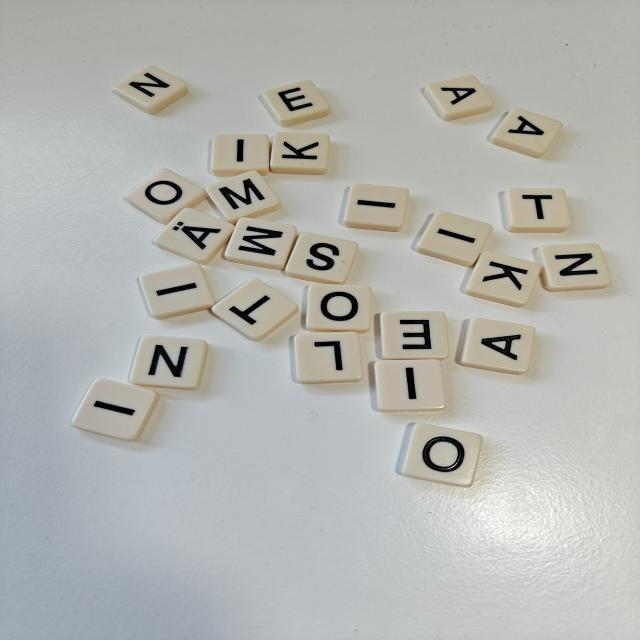a: (460, 318, 535, 374), (490, 109, 562, 158), (425, 75, 494, 121)
a_dot: (154, 208, 234, 264)
e: (380, 311, 449, 360), (262, 80, 330, 126)
i: (72, 379, 159, 440), (416, 211, 492, 267), (140, 263, 215, 319), (374, 360, 447, 412), (344, 184, 409, 231), (212, 134, 269, 176)
k: (464, 252, 541, 307), (270, 132, 330, 175)
l: (294, 332, 363, 384)
m: (205, 171, 281, 224), (225, 218, 297, 269)
n: (130, 336, 208, 390), (115, 65, 188, 114), (537, 243, 611, 291)
o: (397, 424, 482, 487), (126, 169, 206, 225), (306, 284, 371, 333)
s: (285, 233, 358, 284)
t: (212, 278, 298, 341), (503, 188, 570, 233)
